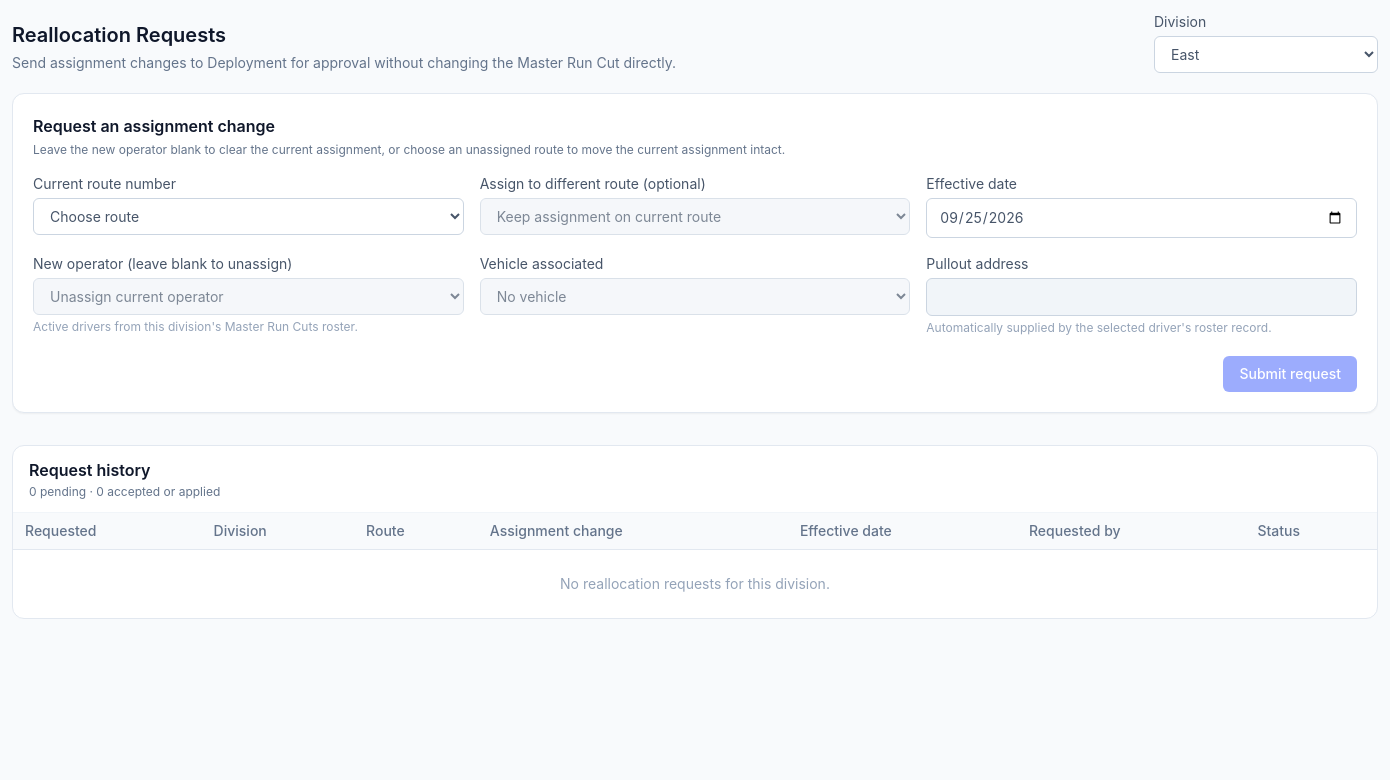
Test: Network Success reallocation requests › entering a replacement operator enables vehicle and pullout assignment
Select "101" in the dropdown labelled "Current route number" at (248, 216), box [33, 198, 464, 235]
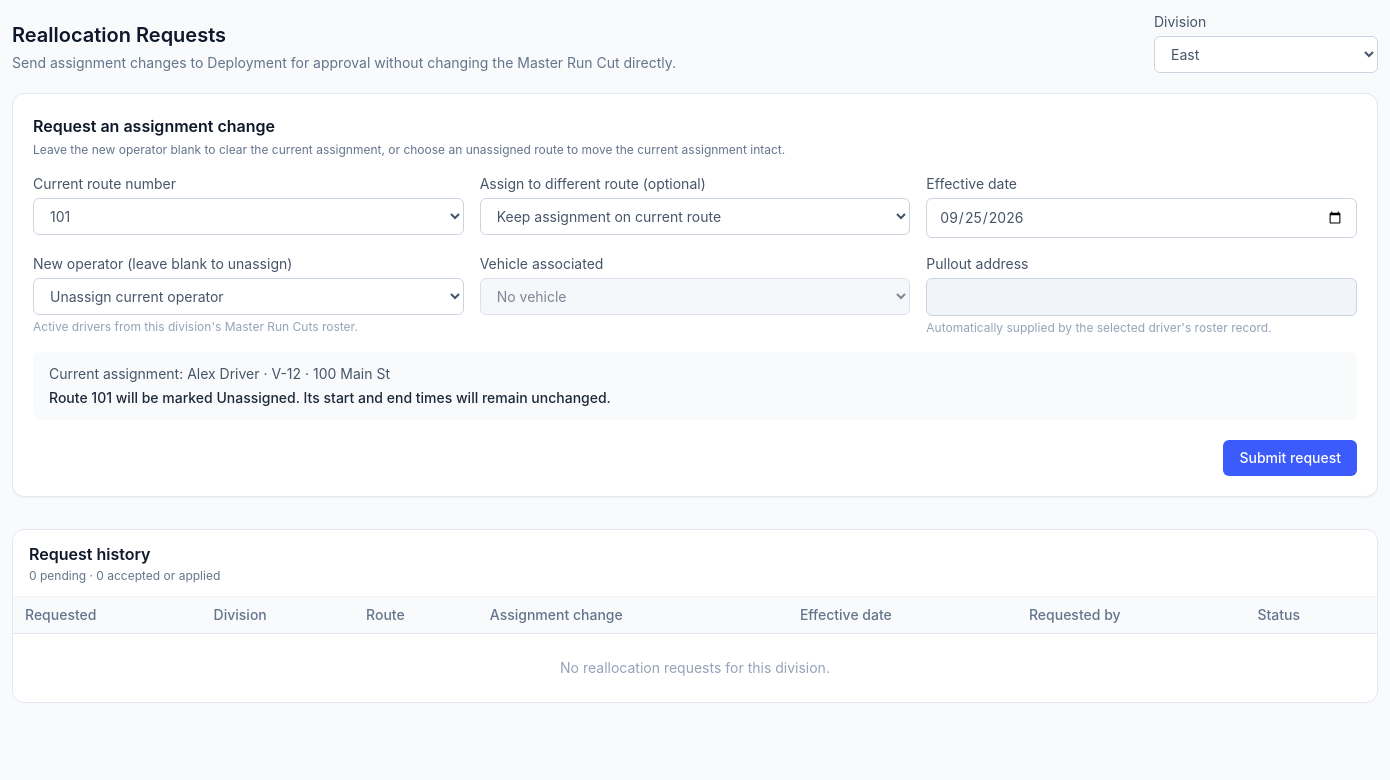
Select "Taylor Driver" in the dropdown labelled "New operator" at (248, 296), box [33, 278, 464, 315]
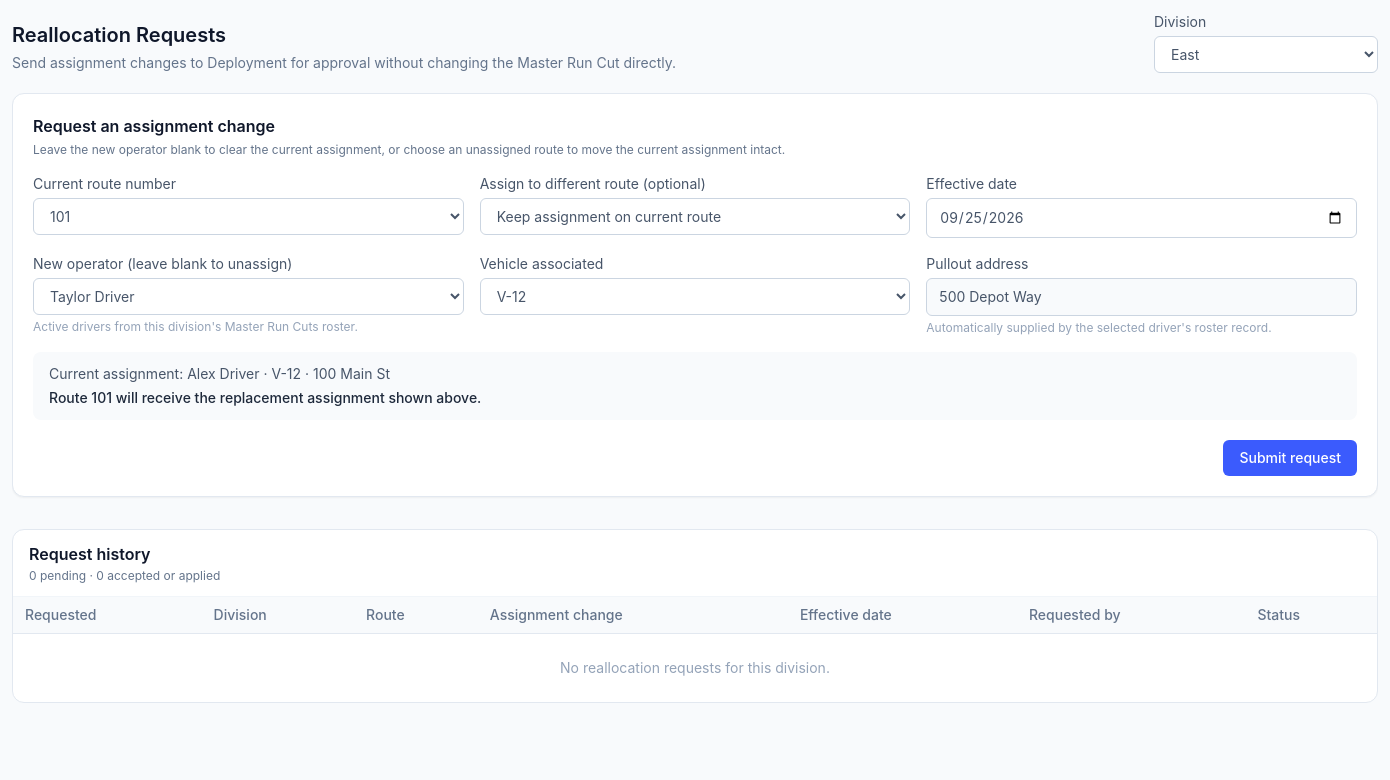
Now the dropdown labelled "Vehicle associated" is enabled, box [480, 278, 910, 315]
Now the dropdown labelled "Vehicle associated" shows "V-12", box [480, 278, 910, 315]
Now the field labelled "Pullout address" is enabled, box [926, 278, 1357, 316]
